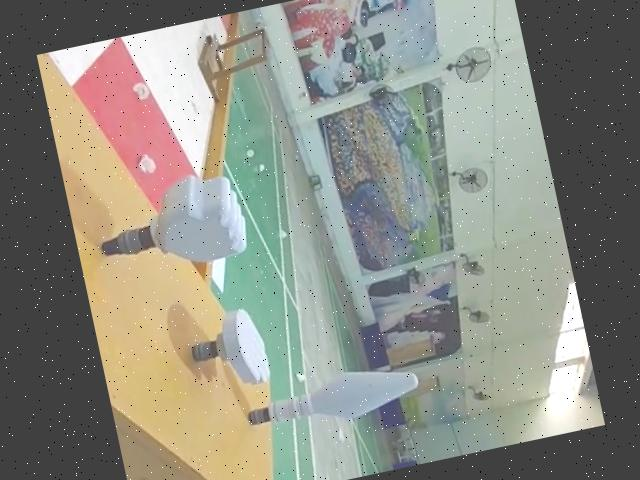Fist: (89, 176, 256, 290)
Hand: (180, 306, 274, 396)
Sph: (234, 359, 424, 447)
